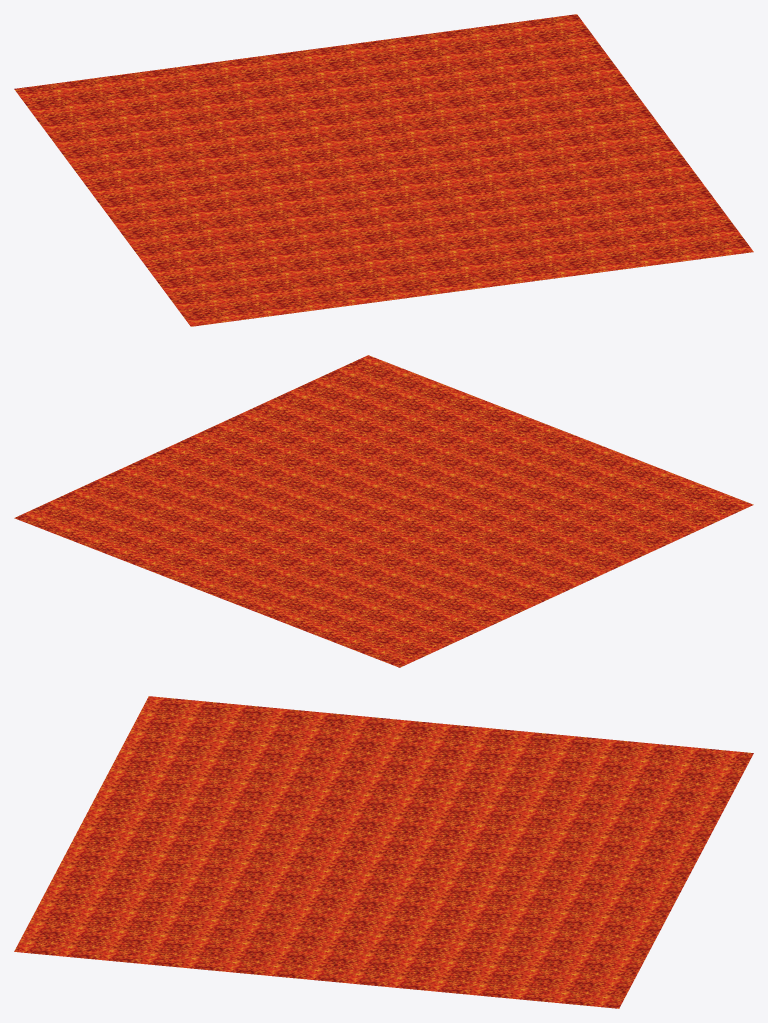
The model's file is volcano_02_plane_01.FBX.
The picture shows the model from 3 angles, top to bottom: view 1: azimuth 30°, elevation 25°; view 2: azimuth 150°, elevation 25°; view 3: azimuth 270°, elevation 25°; orthographic projection. The views are drawn at different scales.
Parts seen in each view (by area): view 1: volcano_02_plane_01; view 2: volcano_02_plane_01; view 3: volcano_02_plane_01.
Part boxes in pixels (left/top/right/bottom): volcano_02_plane_01: left=14, top=14, right=753, bottom=326; volcano_02_plane_01: left=14, top=355, right=753, bottom=667; volcano_02_plane_01: left=14, top=696, right=753, bottom=1008.
Size of the model in its own units: 597 by 0.00014 by 597.
Materials: 1 (1 with a texture image).
